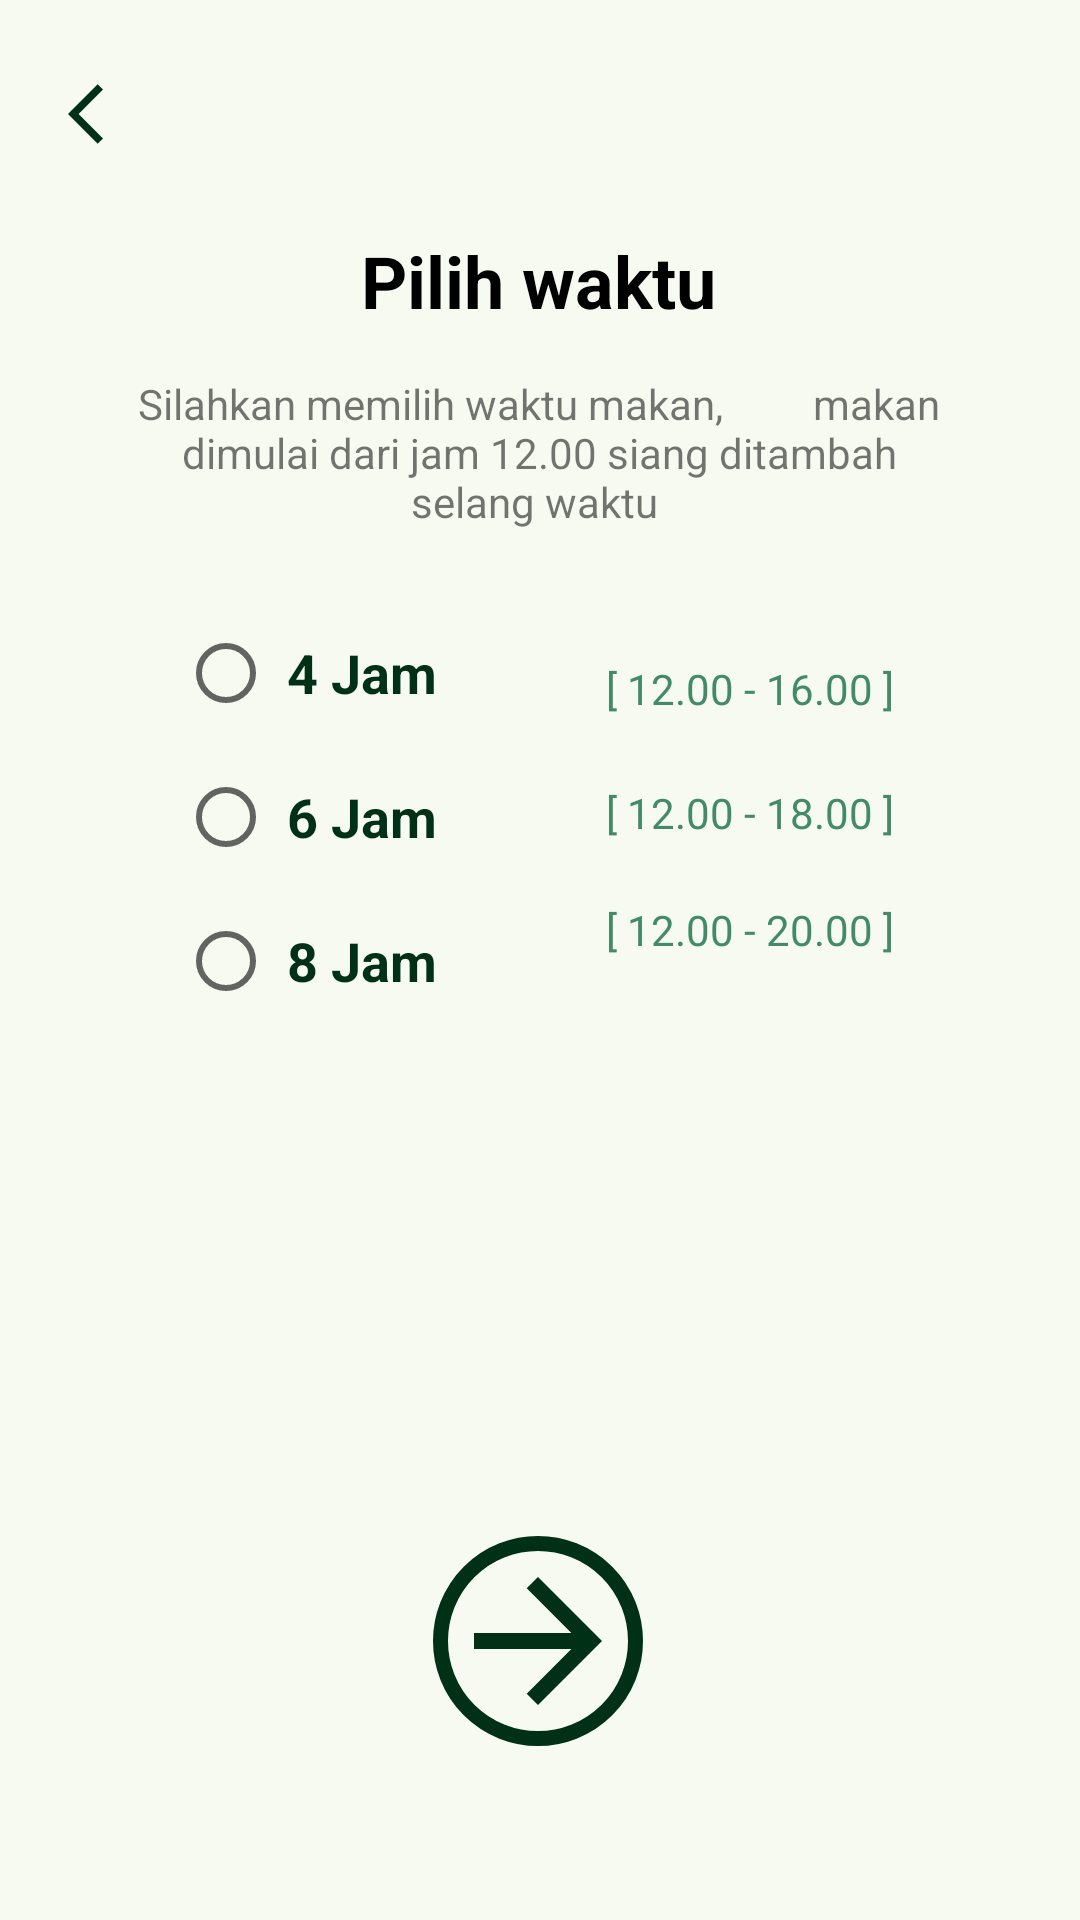

Named icons in this screenshot (1080 × 1920) and their centers, point (x, y):
back: point (85, 114)
forward: point (538, 1641)
